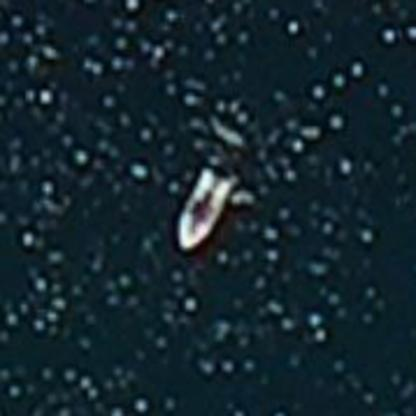ship: (169, 161, 246, 254)
